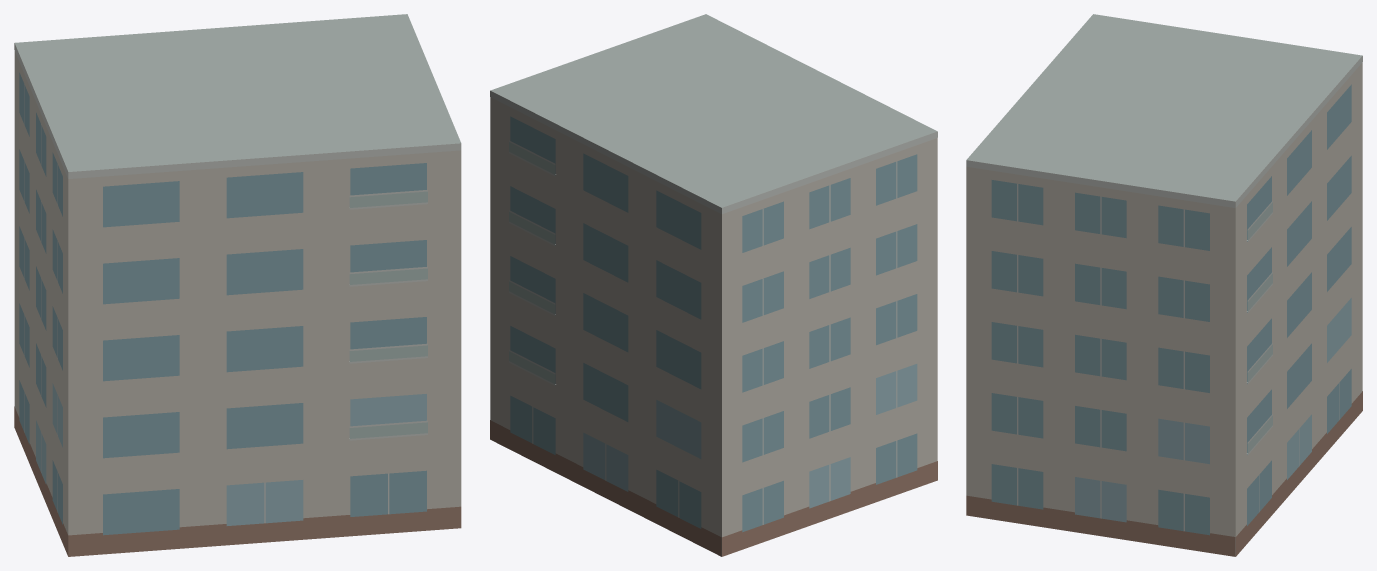
File: survey-upis-32691913.glb
3 views of the same model, side by side, from view 1: azimuth 30°, elevation 25°; view 2: azimuth 150°, elevation 25°; view 3: azimuth 270°, elevation 25° (orthographic). The views are drawn at different scales.
Visible parts, largest first — view 1: survey-upis-32691913.tmp; view 2: survey-upis-32691913.tmp; view 3: survey-upis-32691913.tmp.
Boxes of the visible parts, bbox=[...] form: survey-upis-32691913.tmp: bbox=[14, 14, 461, 556]; survey-upis-32691913.tmp: bbox=[490, 14, 937, 556]; survey-upis-32691913.tmp: bbox=[966, 14, 1362, 556].
Size of the model in its own units: 15.07 by 13.3 by 13.46.
